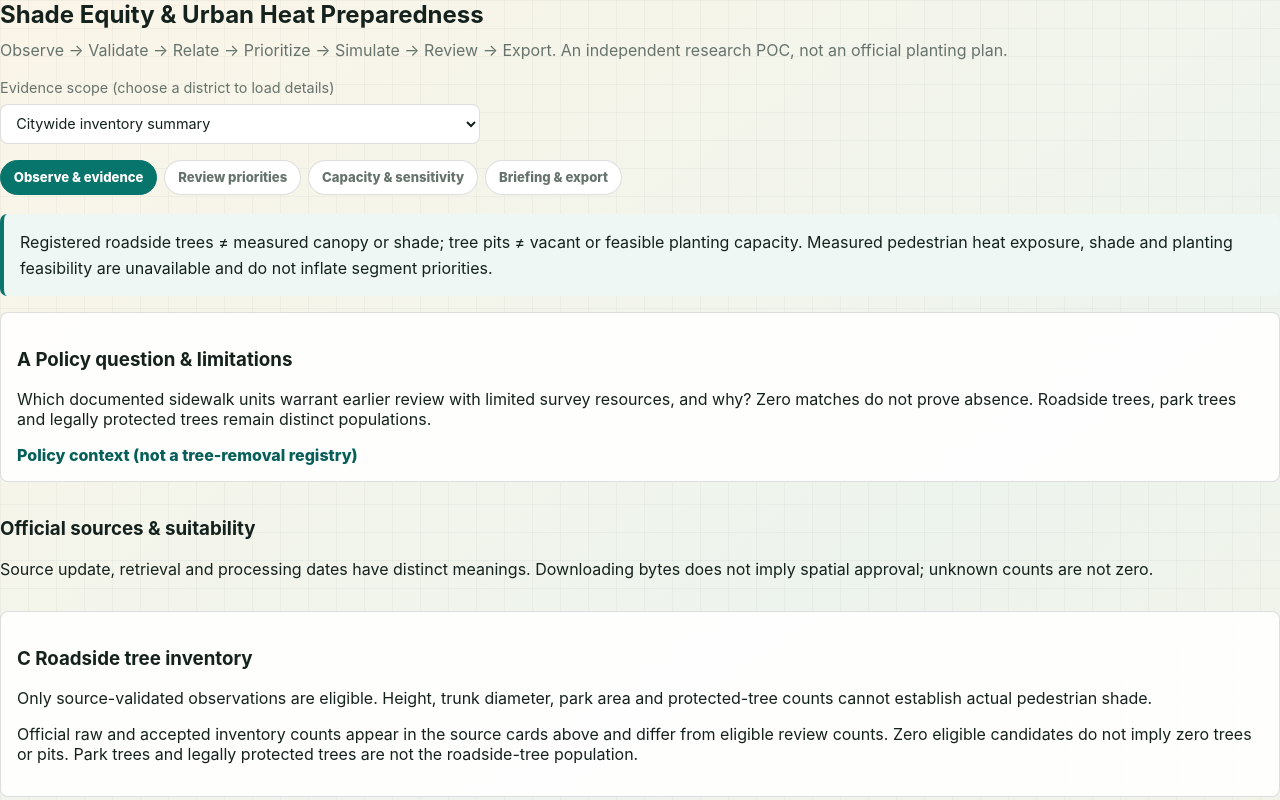
Scenario: shade equity dashboard › offers the complete JSON briefing export
Click the button "Briefing & export" at (554, 177), box [485,160,622,195]
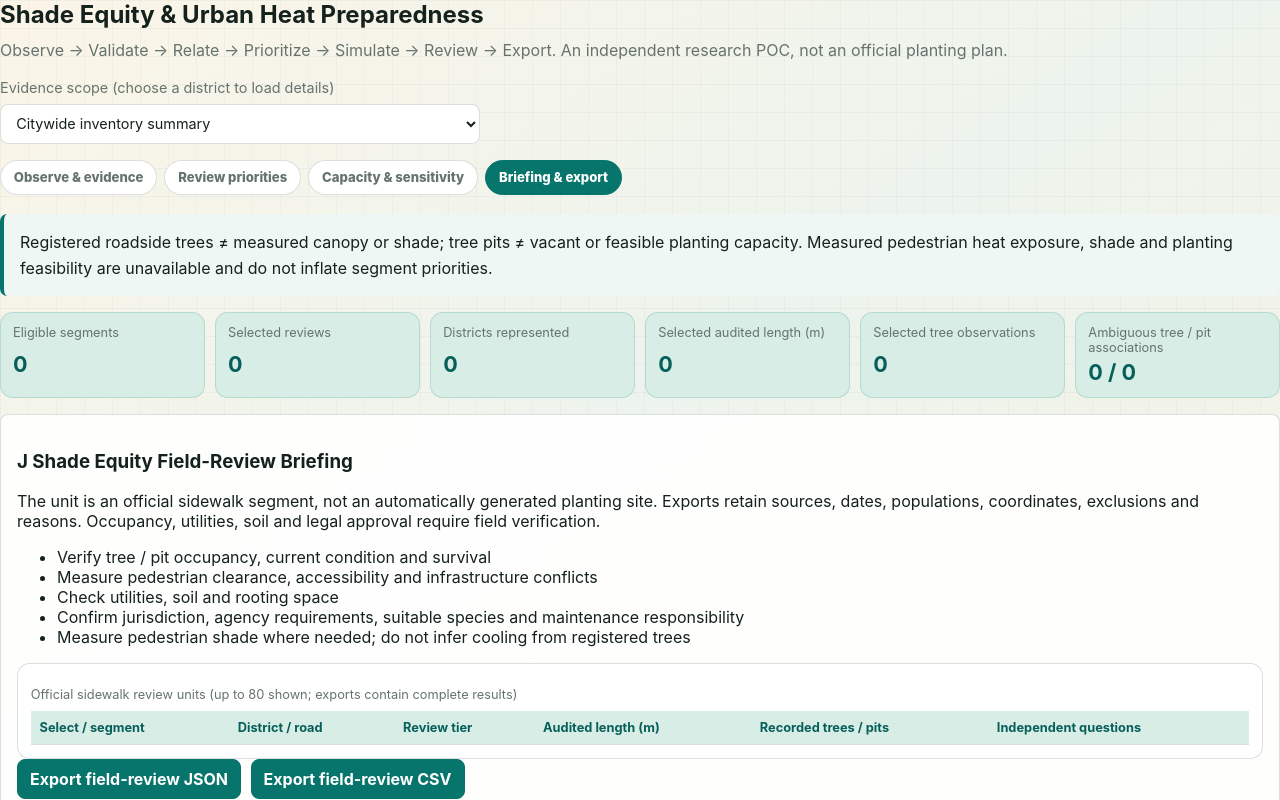
Now the button "Export field-review JSON" is shown, box [17,759,241,799]
